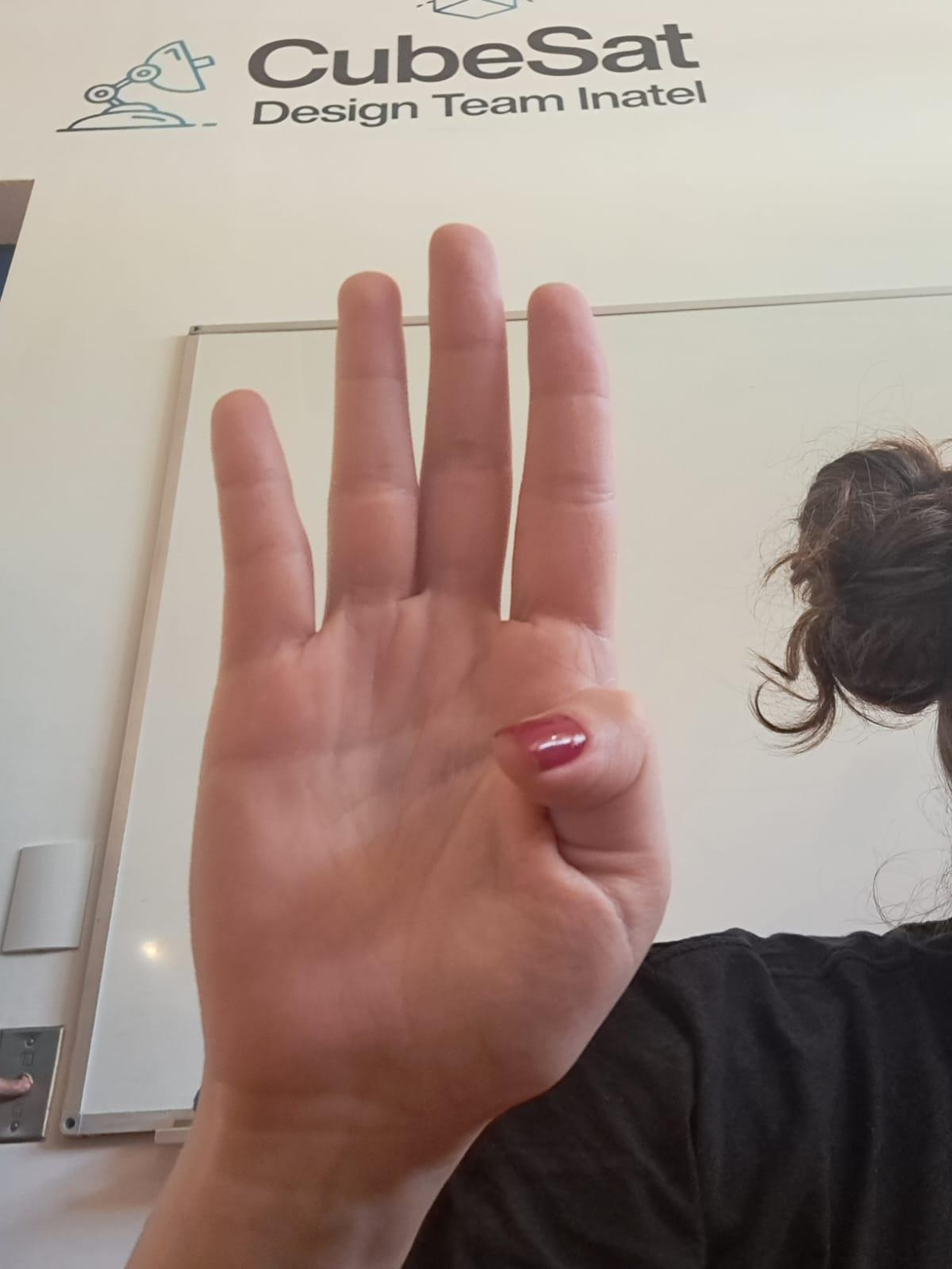B: (151, 202, 682, 1150)
